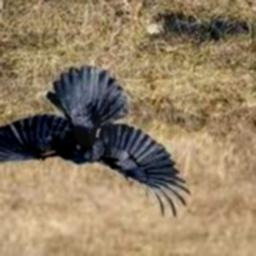Crow: (0, 67, 193, 218)
